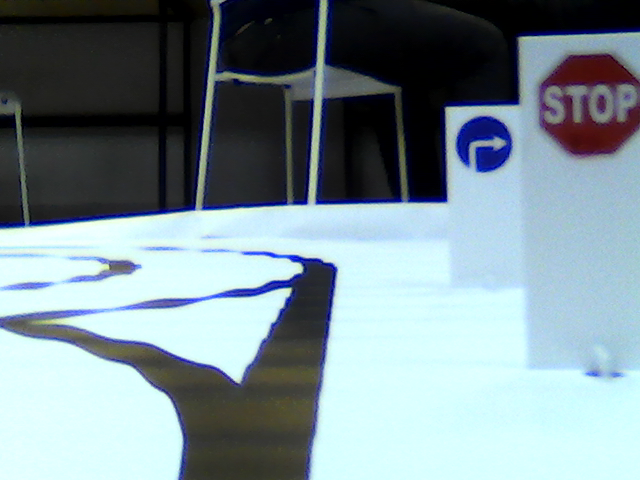Right: (452, 116, 512, 171)
Stop: (536, 47, 640, 166)
